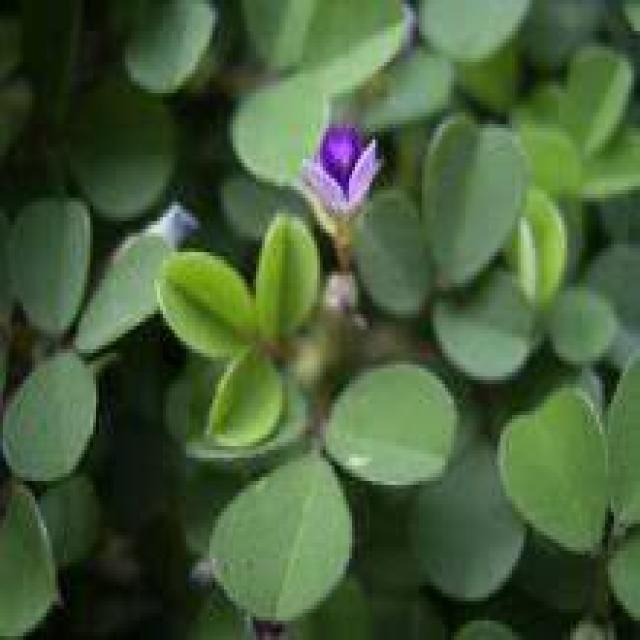organic waste: (298, 101, 386, 213)
